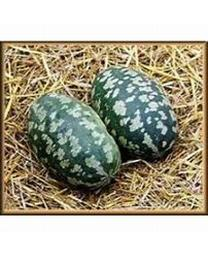watermelon: (23, 91, 123, 192), (88, 67, 180, 163)
